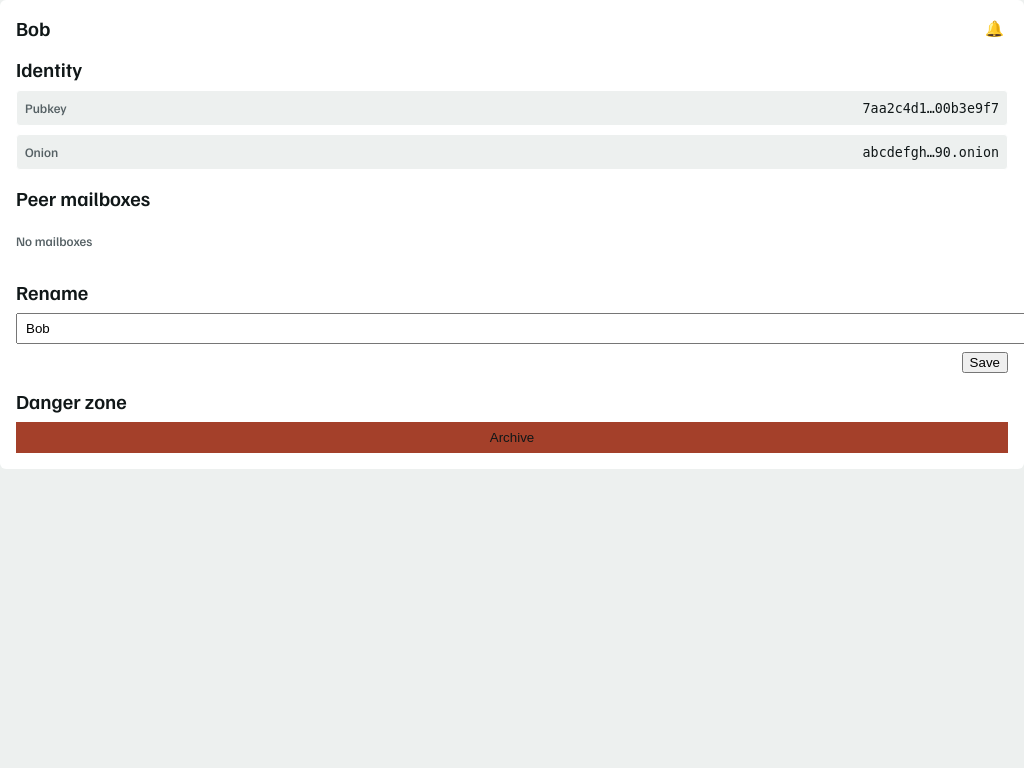
ContactDetailsPanel › archive button opens ConfirmDialog with locked copy
Click the button "Archive". click: (512, 437)
box: [16,422,1008,453]
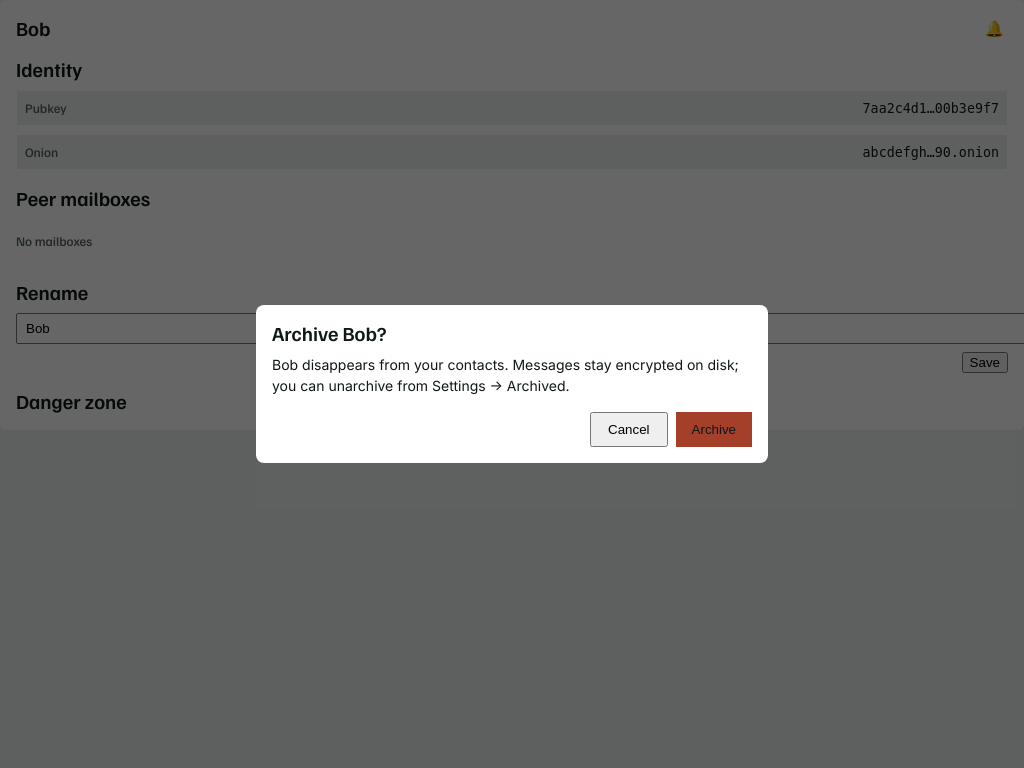
Now the heading "Archive Bob?" is shown, box [272,320,386,346]
Now the text "Bob disappears from your contacts" is shown, box [272,356,739,394]
